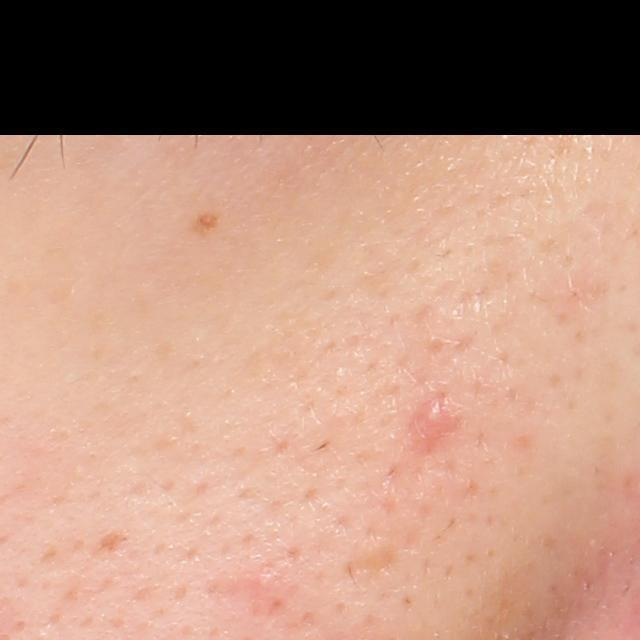atrophic_scar: (325, 540, 406, 589), (87, 524, 138, 559)
pustule: (412, 397, 456, 439)
